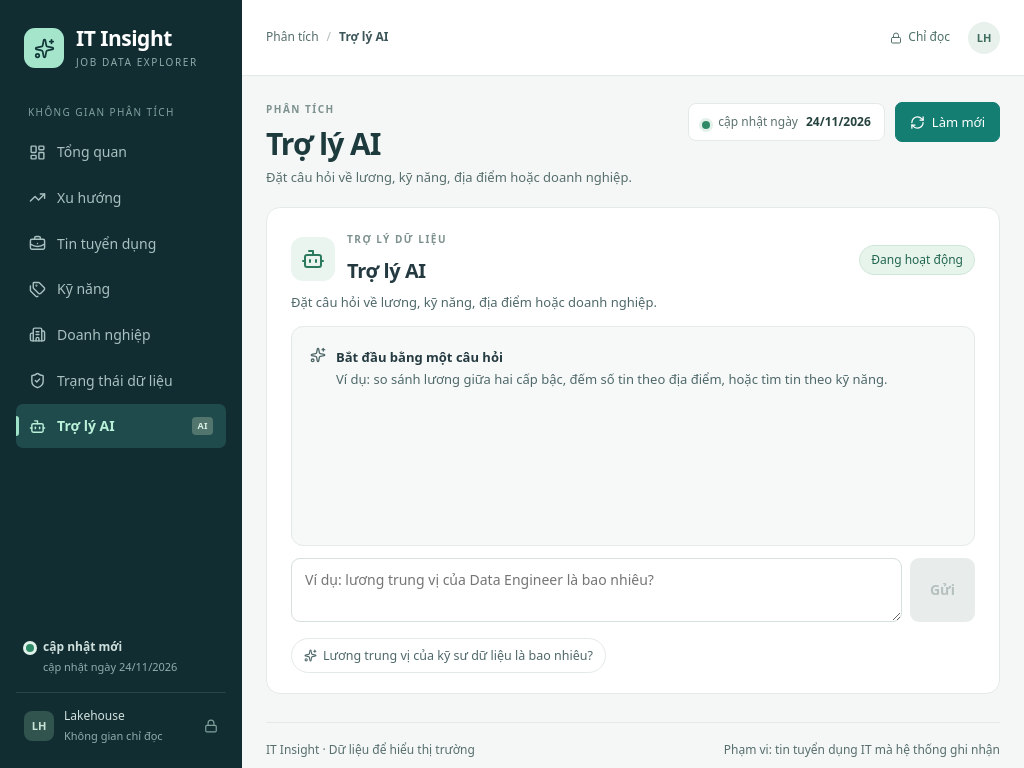
assistant rendering (stubbed API) › shows a retry action when the call fails
Type "lỗi" into the text box named "Câu hỏi cho trợ lý AI".
click(596, 590); type("lỗi")  # box [291,558,902,622]
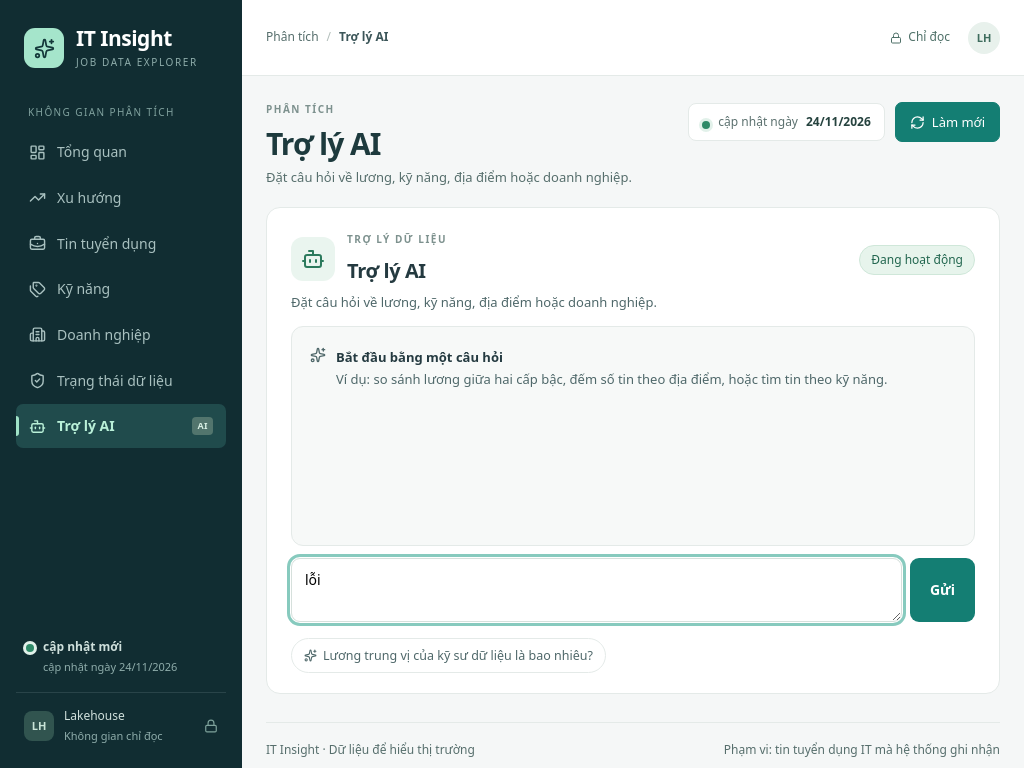
Click the button "Gửi".
click(942, 590)  # box [910,558,975,622]
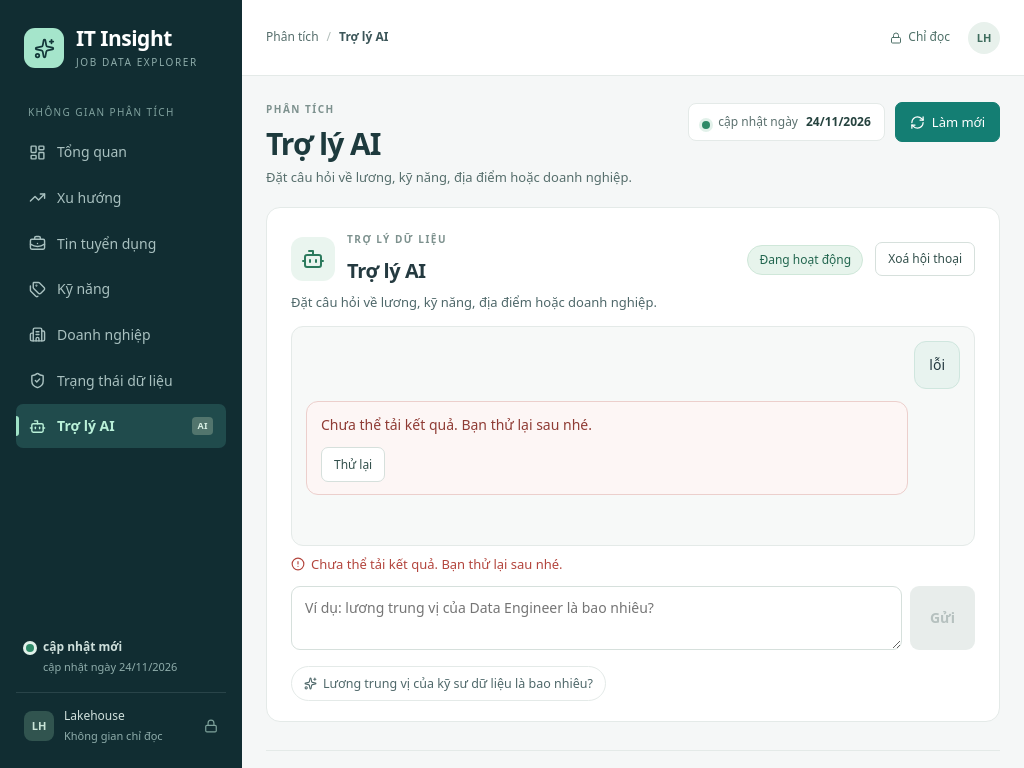
expect the button "Thử lại" is shown: met, box [321,447,385,482]
